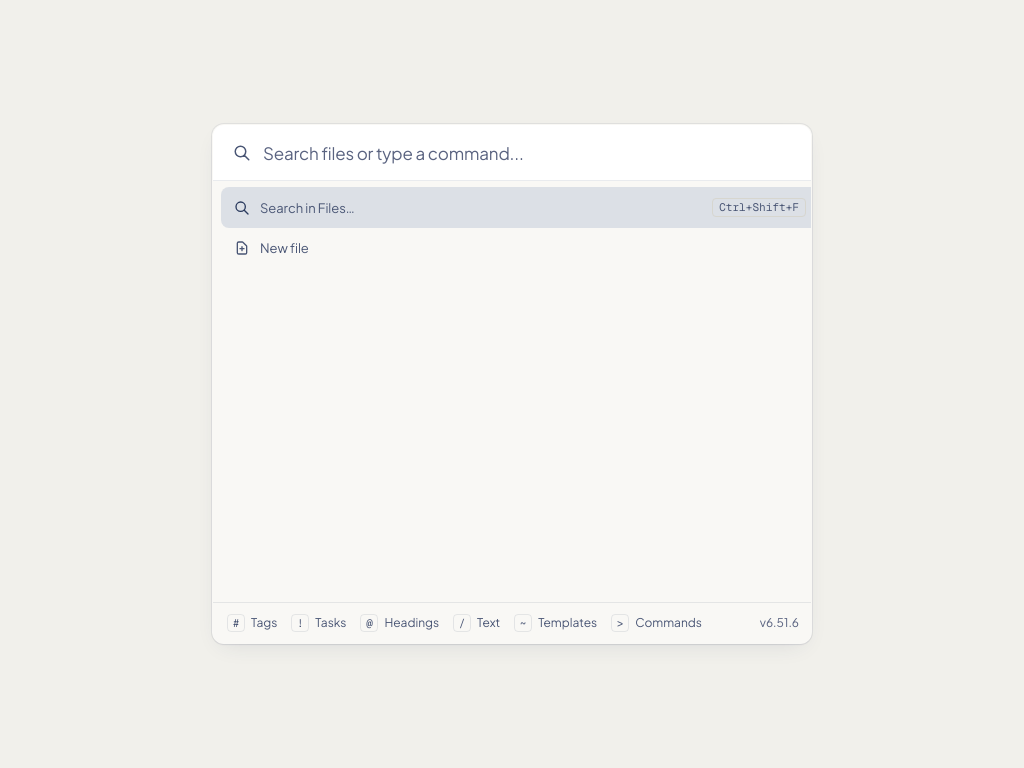
Test case: CommandPalette › clears the search input without closing the palette
Press k
Type "draft" into the dropdown at (531, 152), box [263, 125, 799, 180]
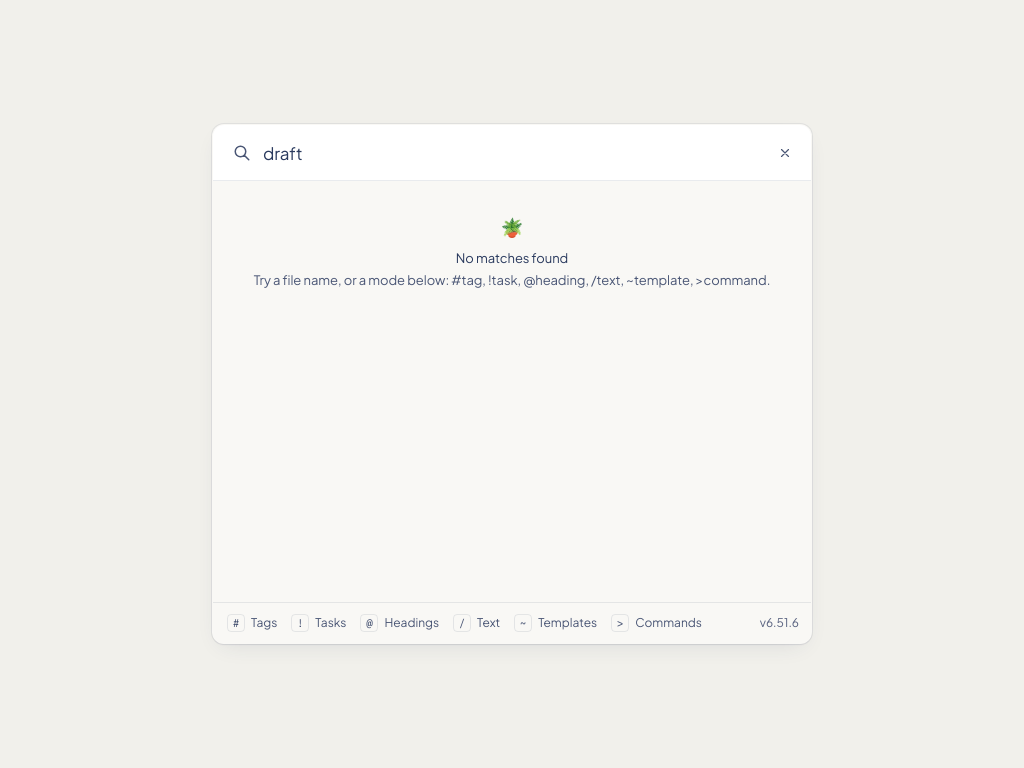
Expected: the number of buttons named "Clear search" is 1
Click the button named "Clear search" at (785, 152), box [771, 138, 799, 166]
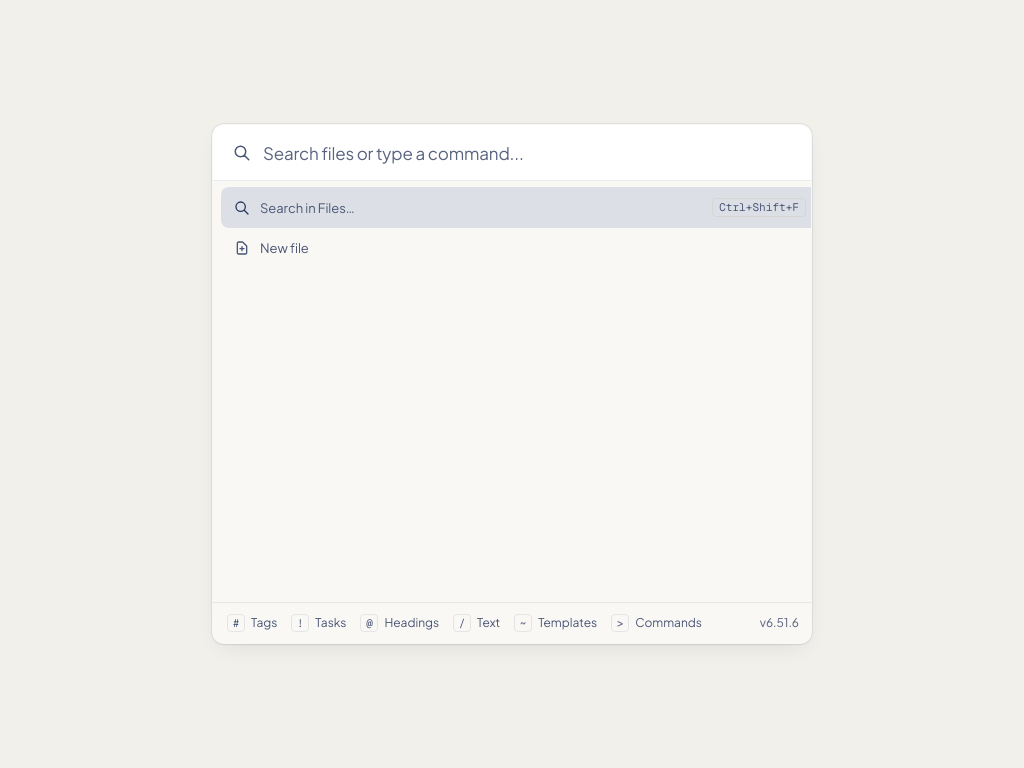
Expected: the list is shown, [221, 187, 812, 268]
Expected: the dropdown is empty, [263, 125, 799, 180]
